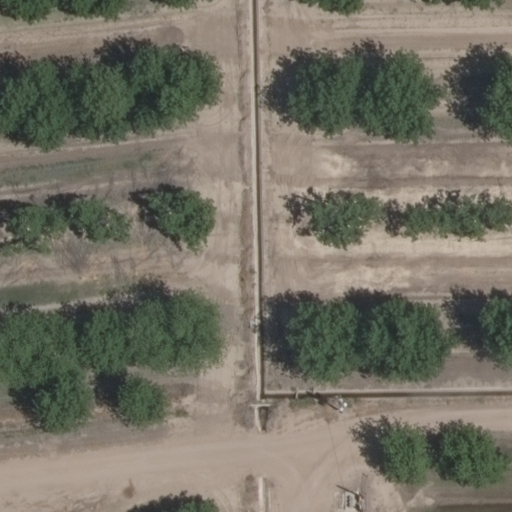DT: (334, 395, 349, 413)
